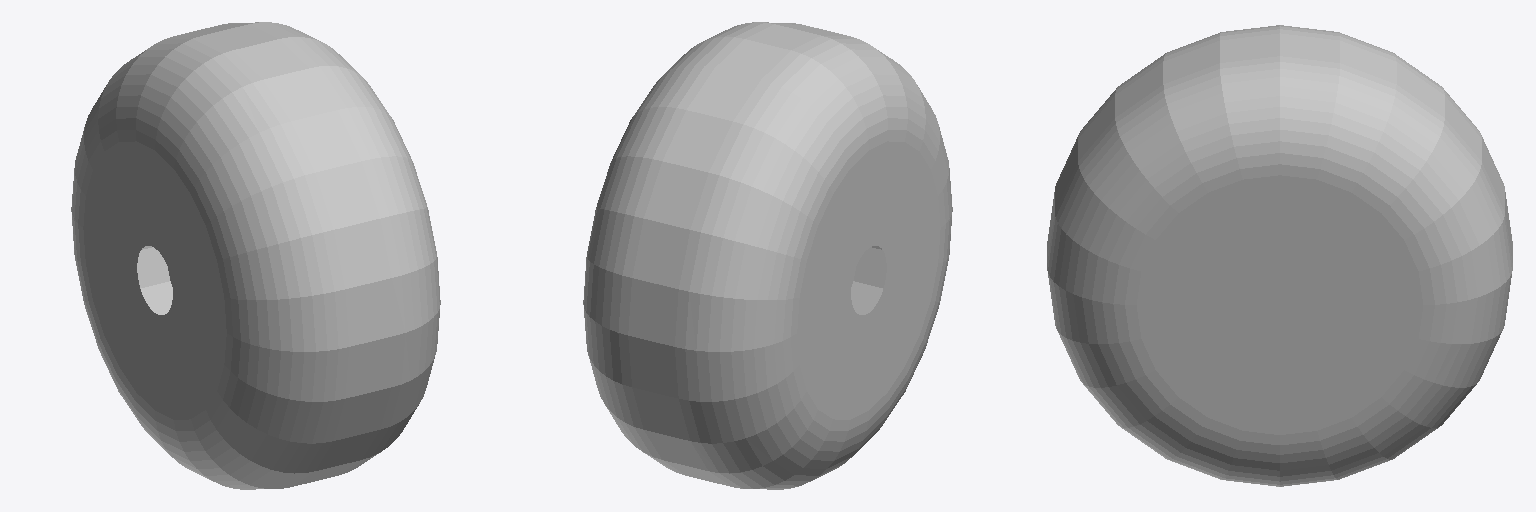
The model's file is original-101.obj.
3 renders of one model, left to right at view 1: azimuth 30°, elevation 25°; view 2: azimuth 150°, elevation 25°; view 3: azimuth 270°, elevation 25°, orthographic.
Parts seen in each view (by area): view 1: #ID653; view 2: #ID653; view 3: #ID653.
Part boxes in pixels (left/top/right/bottom): #ID653: left=71, top=22, right=440, bottom=489; #ID653: left=583, top=22, right=952, bottom=489; #ID653: left=1047, top=25, right=1512, bottom=486.
Size of the model in its own units: 0.0196 by 0.0391 by 0.0391.